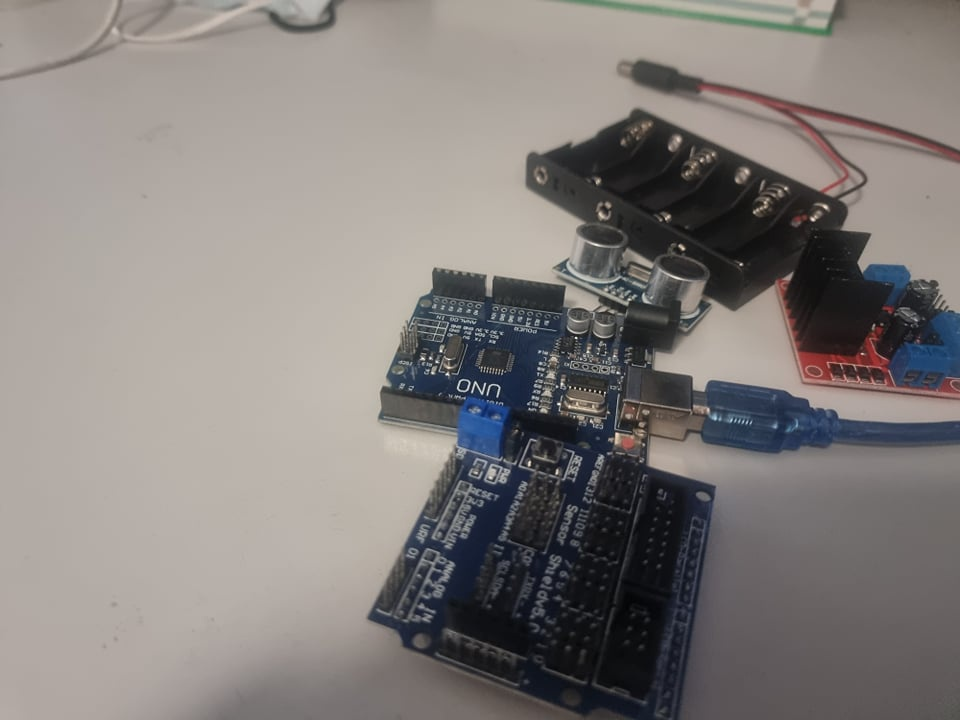5V EXPANSION: (370, 400, 718, 720)
BATTERY BOX: (525, 100, 828, 310)
MOTOR: (785, 224, 960, 409)
SENSOR: (567, 219, 713, 338)
UNO R3: (386, 276, 682, 458)
